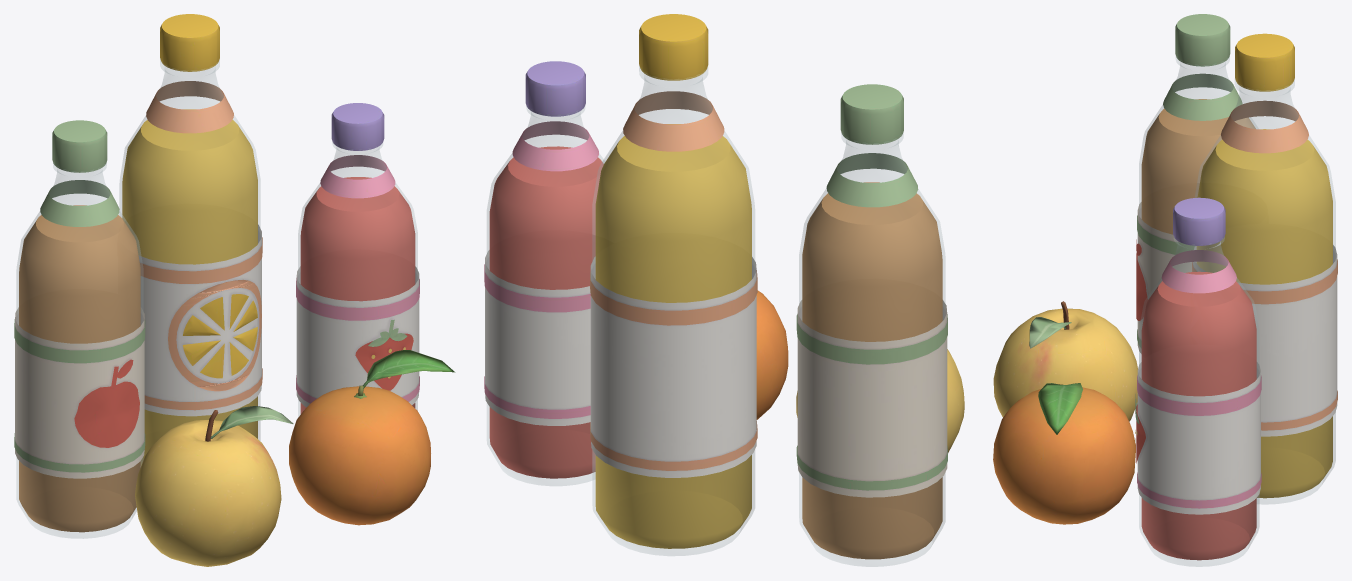
Rendered from juice-bottle.fbx.
The picture shows the model from 3 angles, left to right: view 1: azimuth 30°, elevation 25°; view 2: azimuth 150°, elevation 25°; view 3: azimuth 270°, elevation 25°; orthographic projection. The views are drawn at different scales.
Visible parts, largest first — view 1: juice-bottle_body, juice-bottle_bottles_glass, juice-bottle_apple_juice_glass, juice-bottle_orange_juice_glass, juice-bottle_berry_juice_glass; view 2: juice-bottle_body, juice-bottle_bottles_glass, juice-bottle_orange_juice_glass, juice-bottle_apple_juice_glass, juice-bottle_berry_juice_glass; view 3: juice-bottle_body, juice-bottle_bottles_glass, juice-bottle_orange_juice_glass, juice-bottle_berry_juice_glass, juice-bottle_apple_juice_glass.
Part boxes in pixels (bbox=[...]): juice-bottle_body: bbox=[14, 14, 455, 566]; juice-bottle_bottles_glass: bbox=[16, 59, 417, 538]; juice-bottle_apple_juice_glass: bbox=[19, 205, 140, 532]; juice-bottle_orange_juice_glass: bbox=[122, 109, 257, 465]; juice-bottle_berry_juice_glass: bbox=[300, 177, 415, 413]; juice-bottle_body: bbox=[484, 14, 964, 497]; juice-bottle_bottles_glass: bbox=[487, 66, 945, 566]; juice-bottle_orange_juice_glass: bbox=[595, 124, 751, 548]; juice-bottle_apple_juice_glass: bbox=[802, 182, 942, 559]; juice-bottle_berry_juice_glass: bbox=[489, 146, 603, 478]; juice-bottle_body: bbox=[993, 14, 1337, 524]; juice-bottle_bottles_glass: bbox=[1139, 57, 1335, 566]; juice-bottle_orange_juice_glass: bbox=[1196, 129, 1332, 498]; juice-bottle_berry_juice_glass: bbox=[1141, 271, 1256, 560]; juice-bottle_apple_juice_glass: bbox=[1141, 99, 1255, 234].
Bounding box in the file's own units: 0.2522 × 0.271 × 0.1943.
5 materials, 1 textured.
